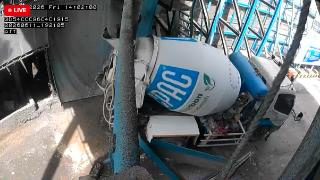cement_mixer_truck: (98, 26, 297, 147)
